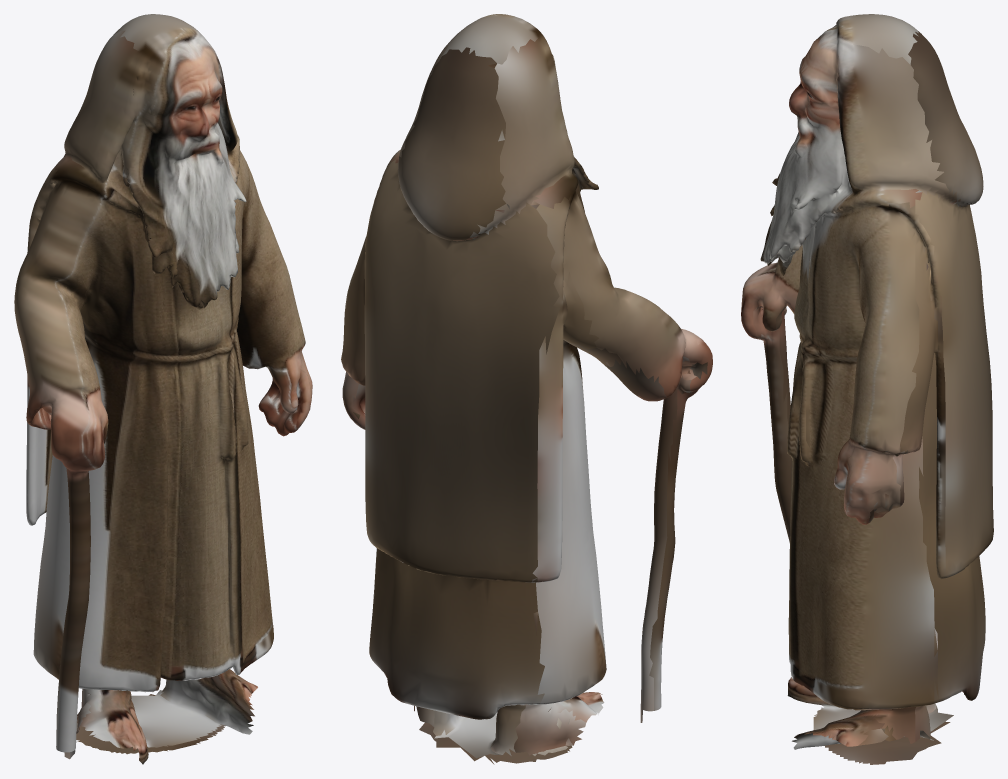
Rendered from saren.glb.
The picture shows the model from 3 angles, left to right: view 1: azimuth 30°, elevation 25°; view 2: azimuth 150°, elevation 25°; view 3: azimuth 270°, elevation 25°; orthographic projection.
Parts seen in each view (by area): view 1: perso; view 2: perso; view 3: perso.
Part boxes in pixels (bbox=[...]): perso: bbox=[14, 14, 312, 764]; perso: bbox=[341, 14, 712, 764]; perso: bbox=[741, 14, 993, 764].
Size of the model in its own units: 0.7471 by 1.64 by 0.5275.
1 material, 1 textured.
